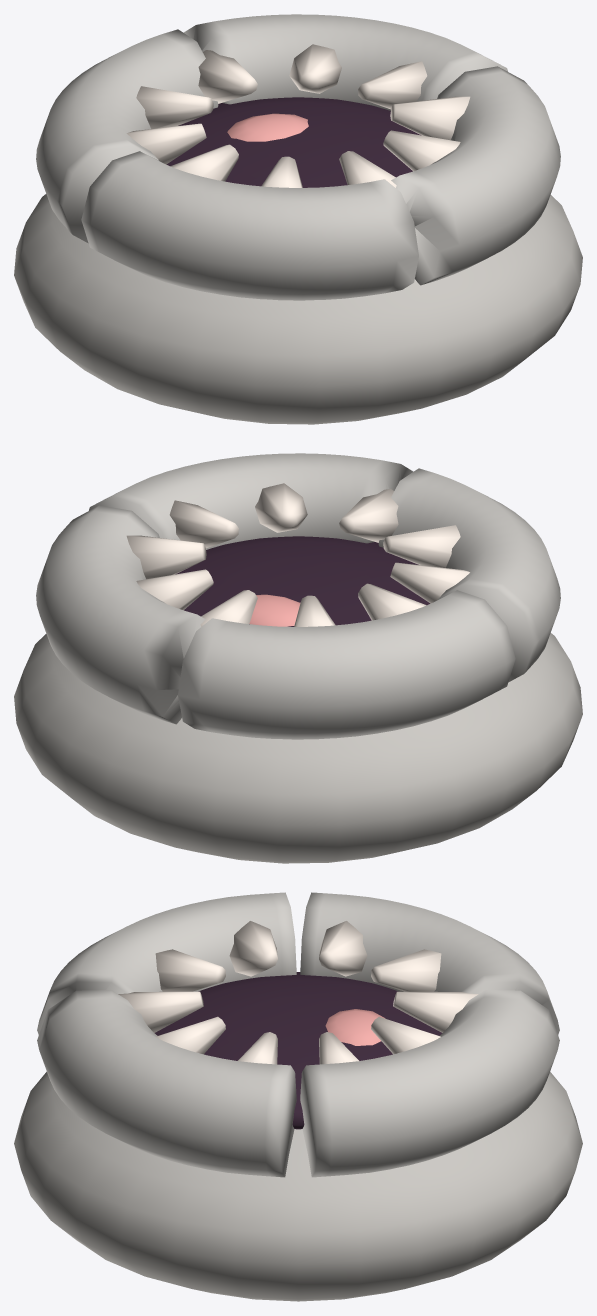
File: part_mouth_maw.glb
3 renders of one model, top to bottom at view 1: azimuth 30°, elevation 25°; view 2: azimuth 150°, elevation 25°; view 3: azimuth 270°, elevation 25°, orthographic.
Parts seen in each view (by area): view 1: part_mouth_maw_painted_mesh, jaw.005_painted_mesh; view 2: part_mouth_maw_painted_mesh, jaw.005_painted_mesh; view 3: part_mouth_maw_painted_mesh, jaw.005_painted_mesh.
Part boxes in pixels (<box>): part_mouth_maw_painted_mesh: <box>14,66,582,424</box>; jaw.005_painted_mesh: <box>36,14,507,243</box>; part_mouth_maw_painted_mesh: <box>14,453,582,863</box>; jaw.005_painted_mesh: <box>36,505,515,739</box>; part_mouth_maw_painted_mesh: <box>14,892,582,1301</box>; jaw.005_painted_mesh: <box>300,892,559,1177</box>.
Bounding box in the file's own units: 1 × 0.5051 × 1.
